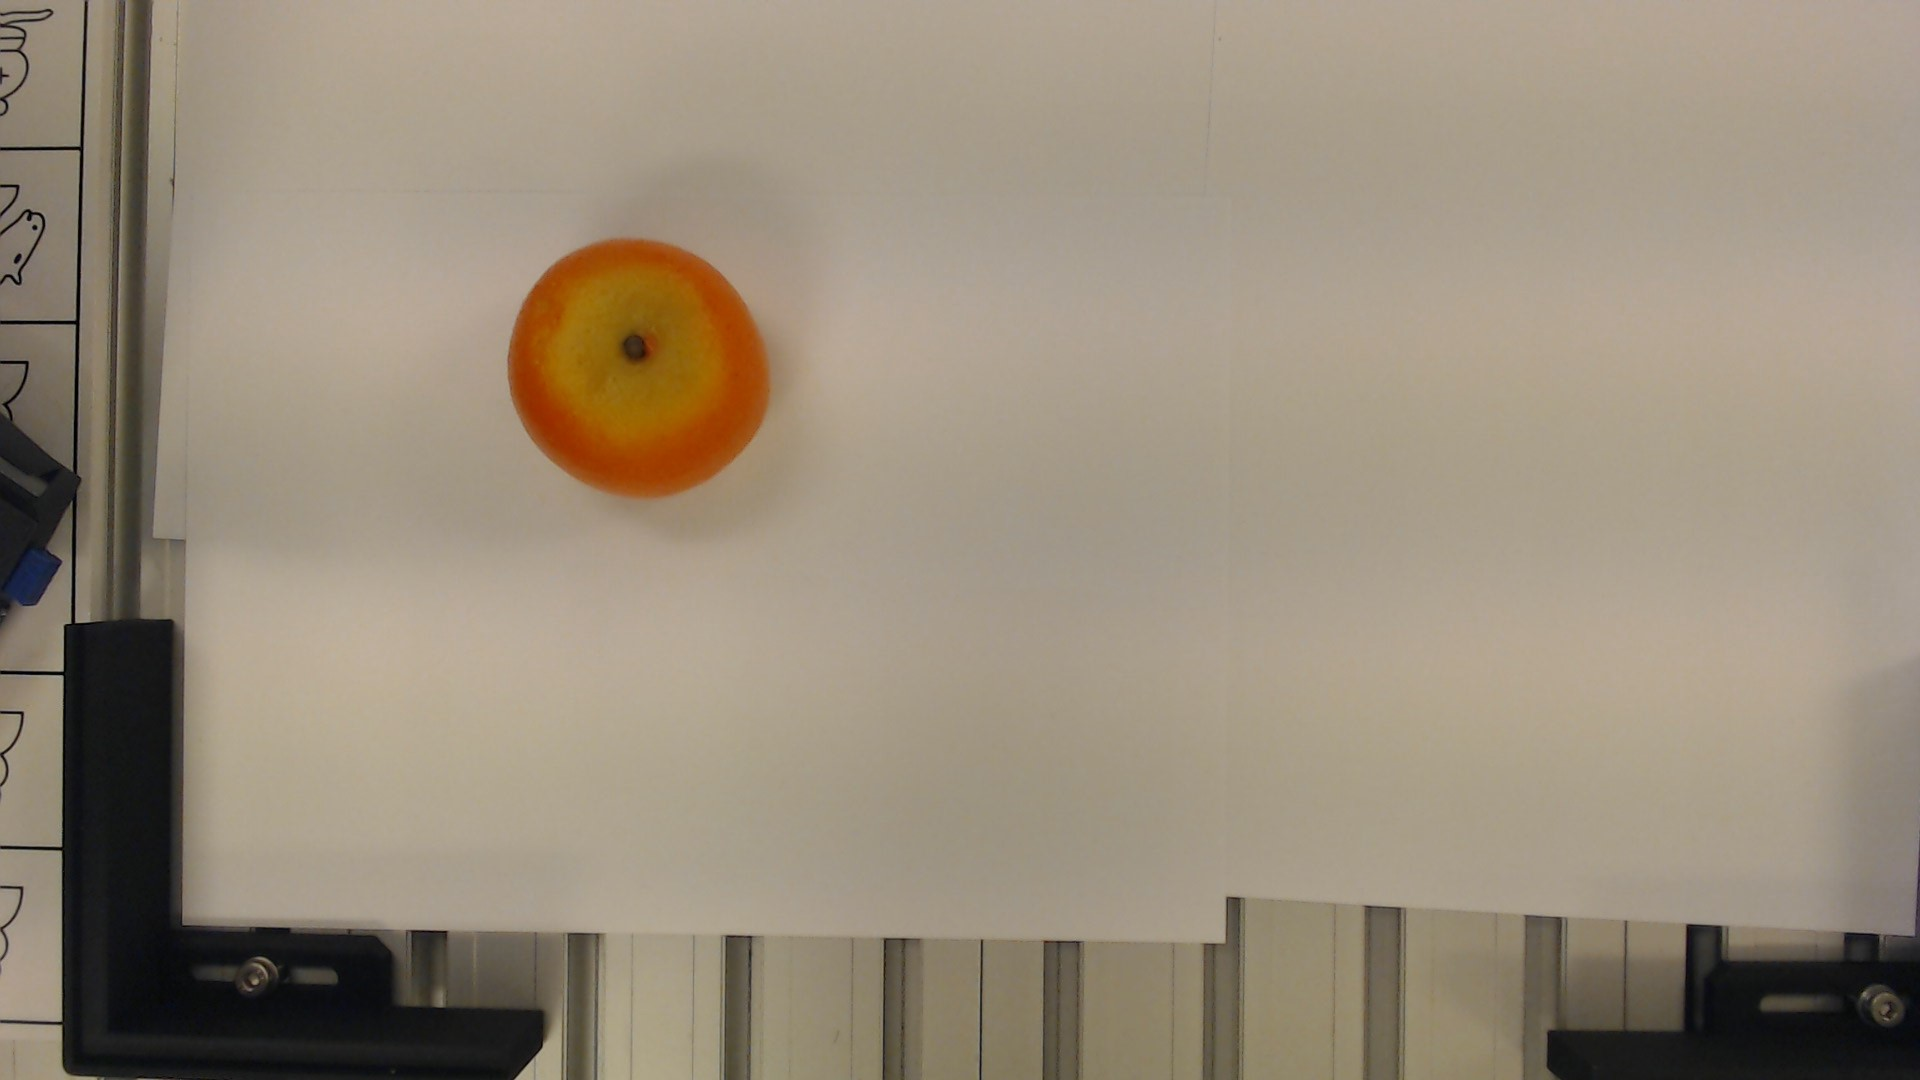Mandarin: (493, 235, 779, 495)
